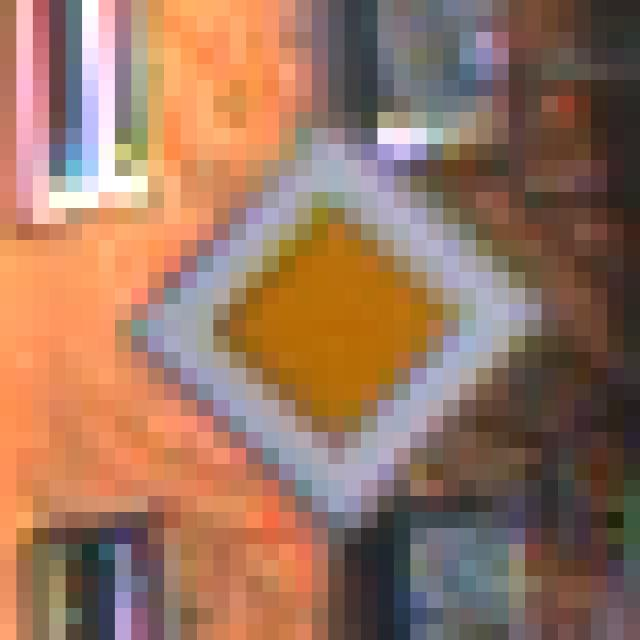Main Road: (99, 81, 559, 561)
